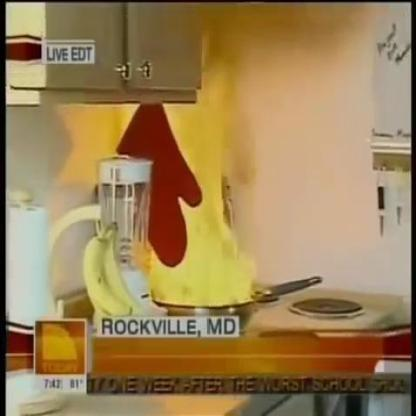fire: (134, 30, 262, 306)
